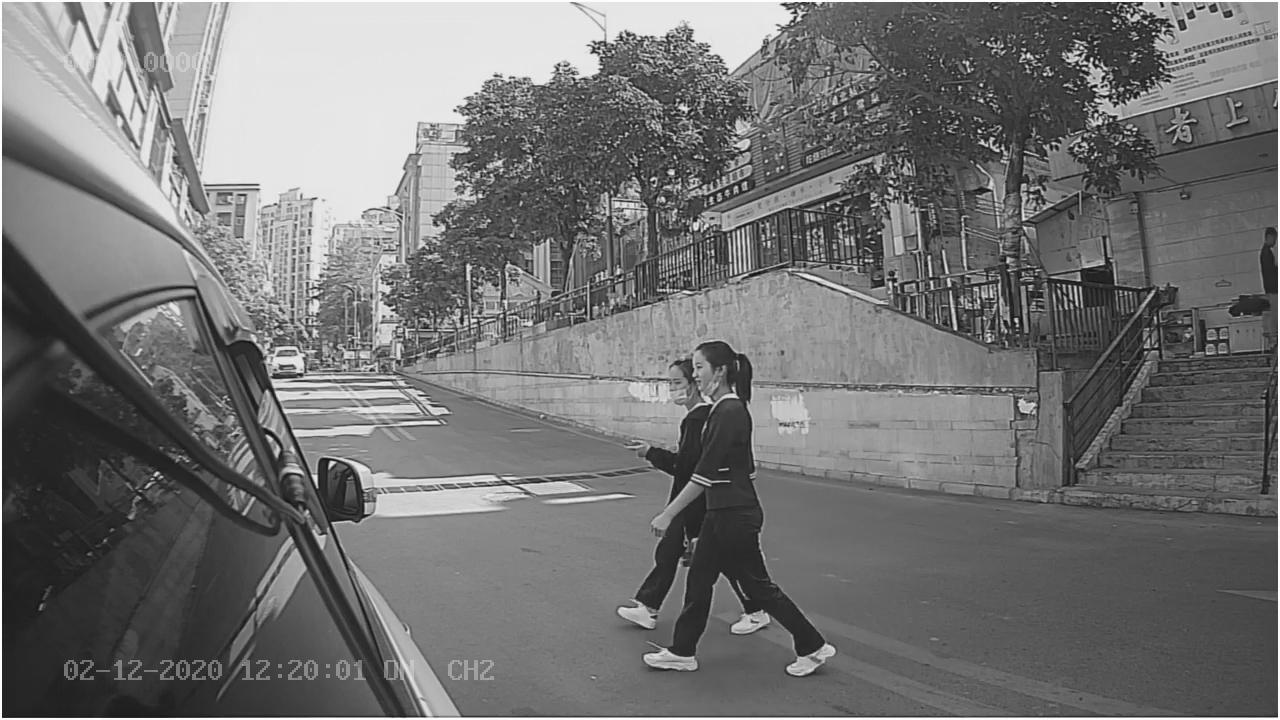person: (614, 339, 841, 695)
